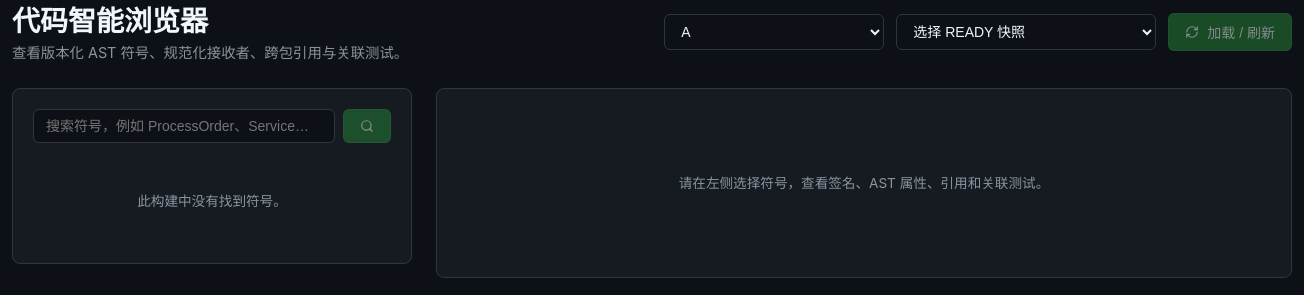
it: CodeIntelPage context isolation › stops code polling when its snapshot is obsolete
The width and height of the screenshot is (1304, 295).
Step 1. Select "snap-a (aaaaaaaa)" in the 2nd dropdown → [1026, 32], box [896,14,1156,50]
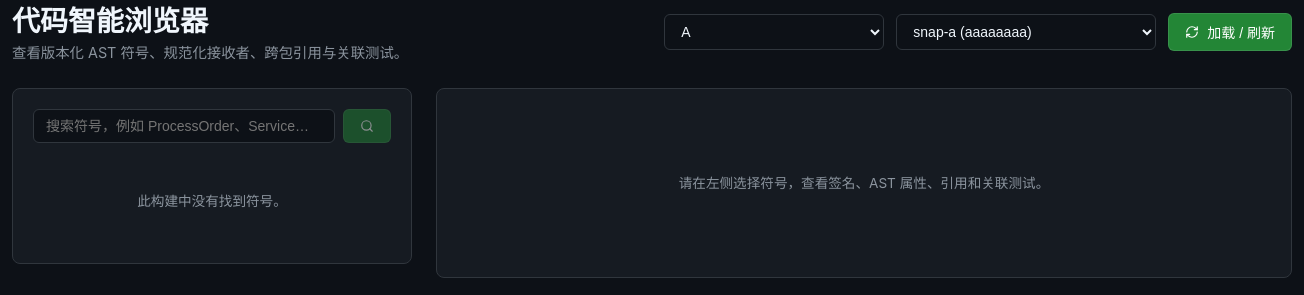
Step 2. Click the button "加载 / 刷新" → [1230, 32], box [1168,13,1292,51]
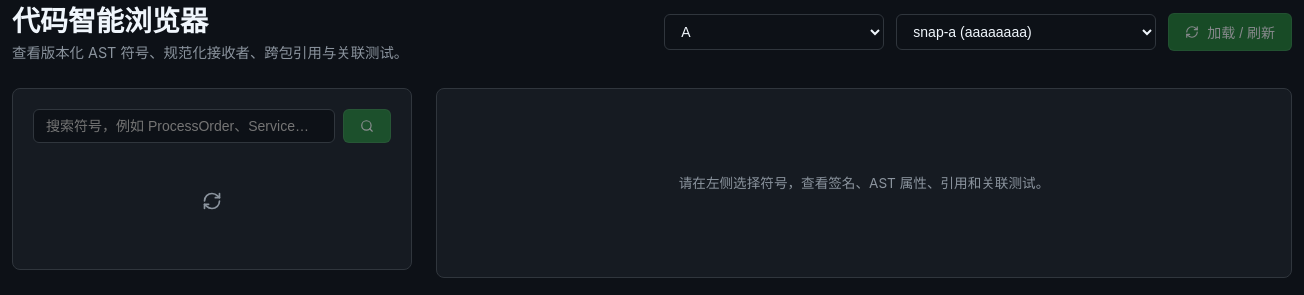
Step 3. Select "snap-a2 (aaaaaaaa)" in the 2nd dropdown → [1026, 32], box [896,14,1156,50]
Wait 5000 ms
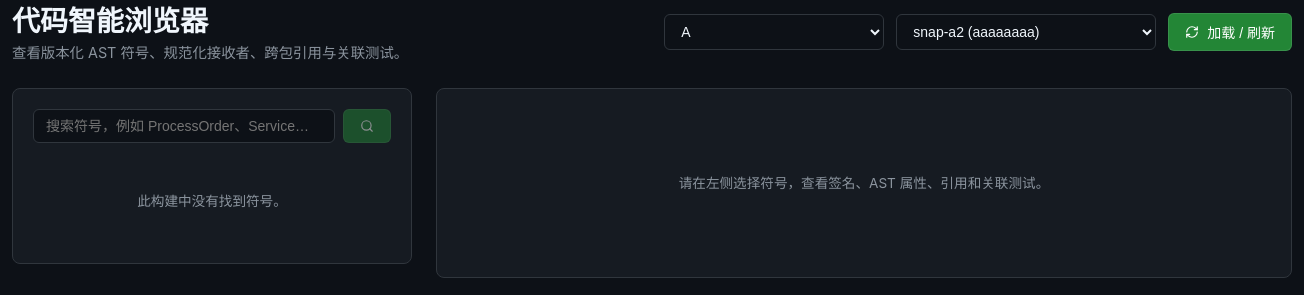
Expected: the button "加载 / 刷新" is enabled, [1168,13,1292,51]
